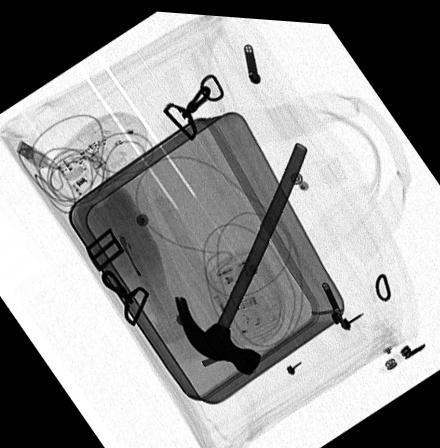Hammer: (173, 136, 308, 370)
